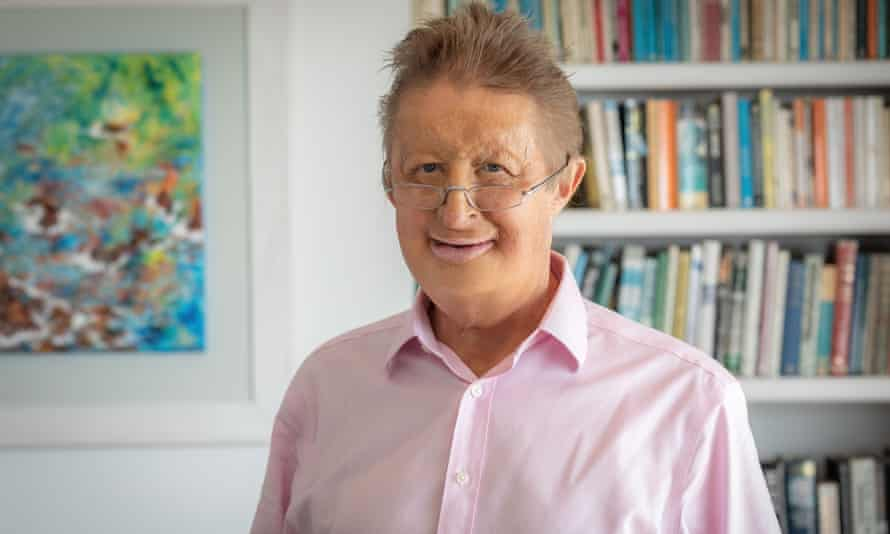without_mask: (391, 85, 553, 302)
